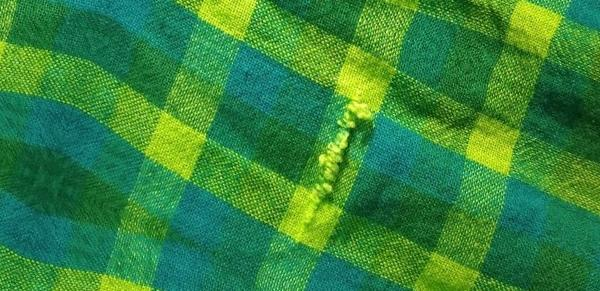knot: (309, 96, 376, 231)
